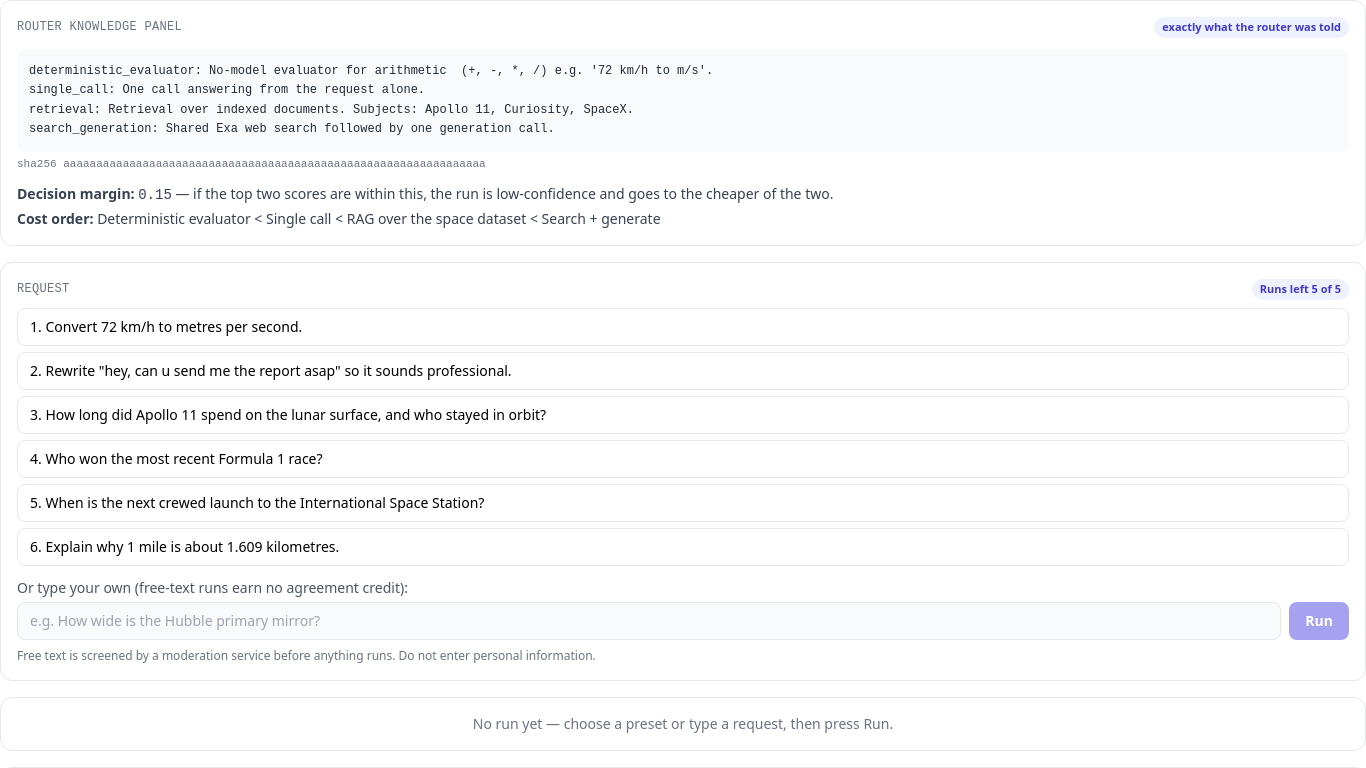
Test: a routed preset run › renders the rationale as plain text, not markup
Click the button "next crewed launch" at {"x": 265, "y": 502}, box [17,484,1349,522]
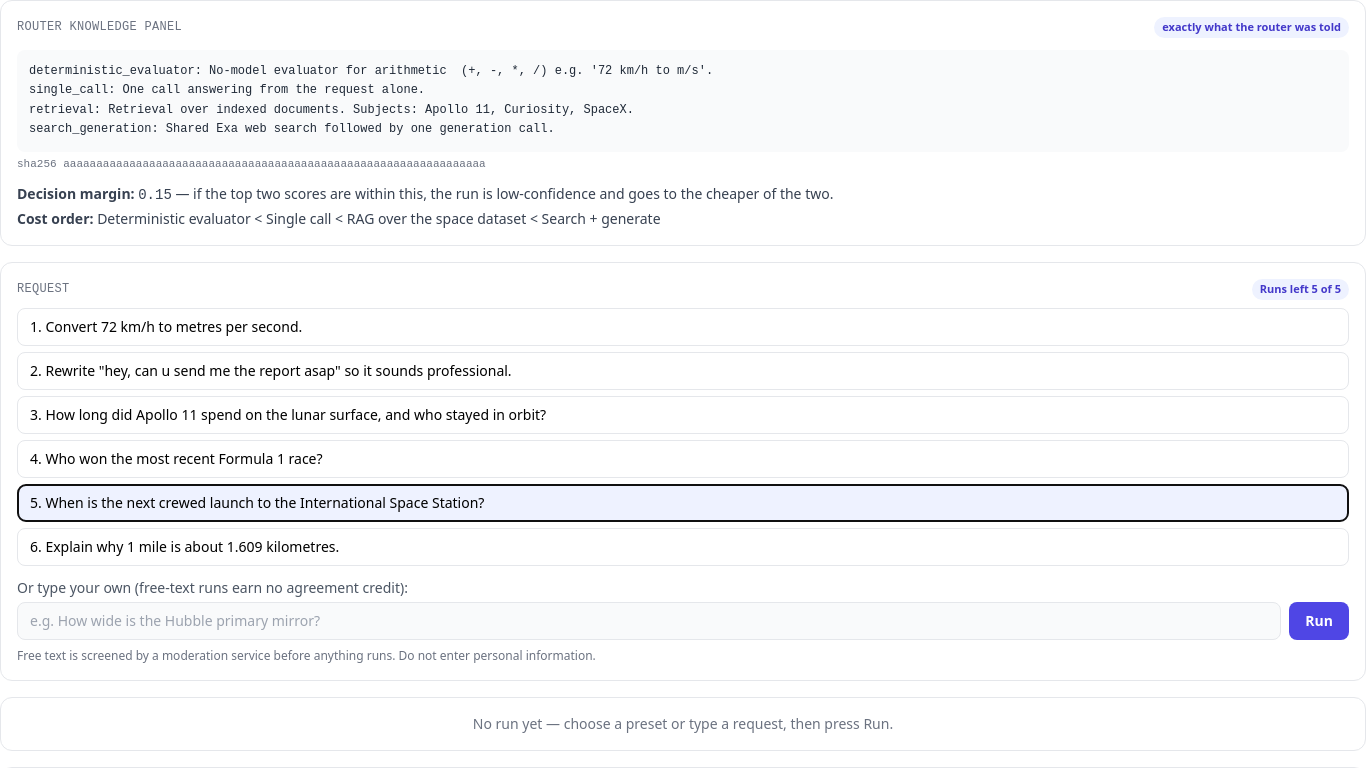
Click the button "Run" at {"x": 1319, "y": 620}, box [1289,602,1349,640]
(page scrolled)
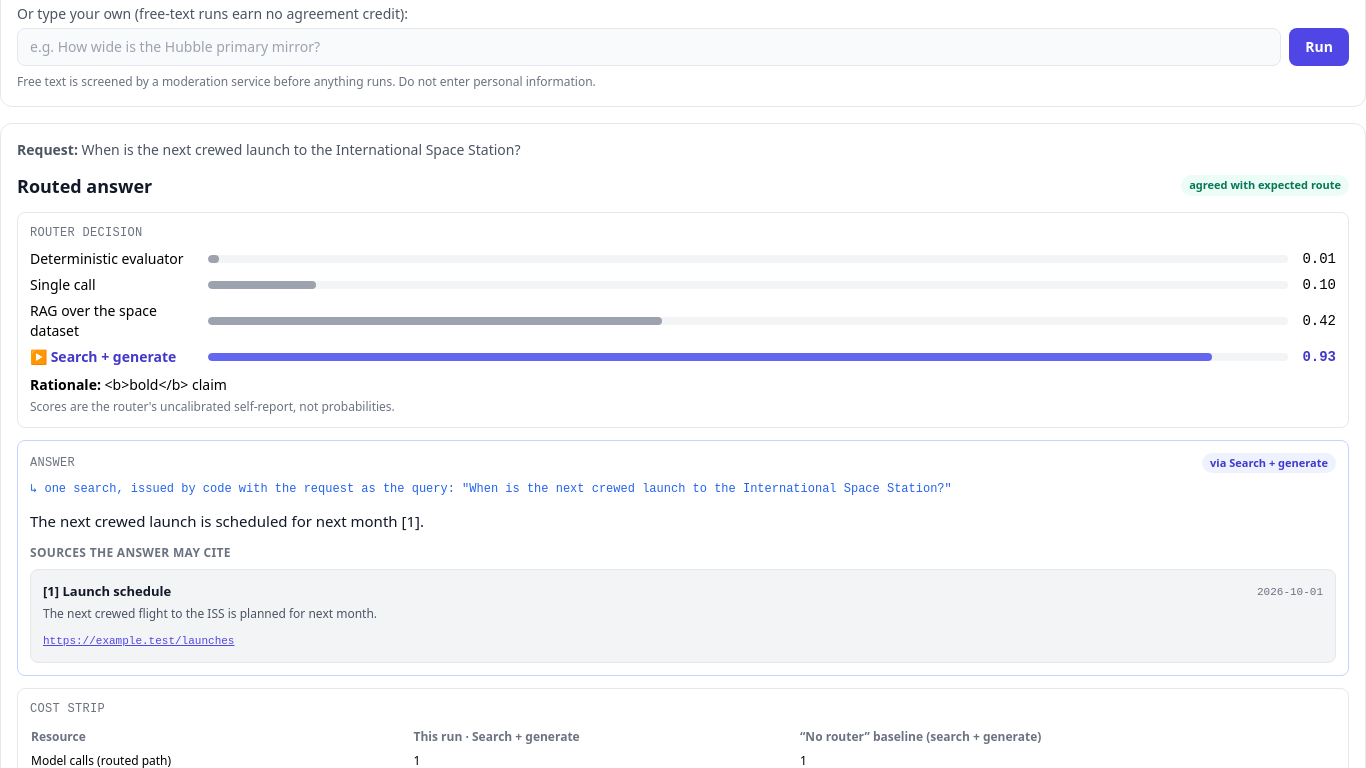
expect the text with test id "rationale" reads "<b>bold</b> claim": met, box [104,374,227,394]
